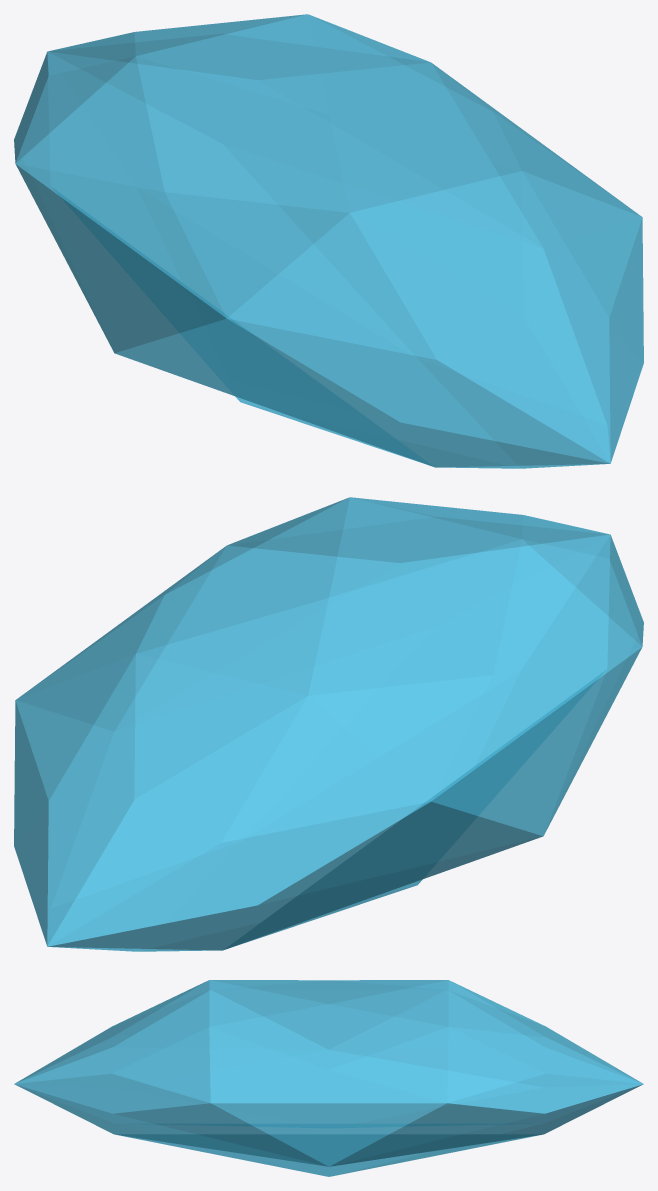
File: iceUzun.fbx
3 views of the same model, one above another, from view 1: azimuth 30°, elevation 25°; view 2: azimuth 150°, elevation 25°; view 3: azimuth 270°, elevation 25° (orthographic). The views are drawn at different scales.
Parts seen in each view (by area): view 1: iceUzun; view 2: iceUzun; view 3: iceUzun.
Part boxes in pixels (x1,y1,x2,y2): iceUzun: [14, 14, 643, 468]; iceUzun: [14, 497, 643, 951]; iceUzun: [14, 980, 643, 1176].
Bounding box in the file's own units: 45.11 × 26.82 × 103.
